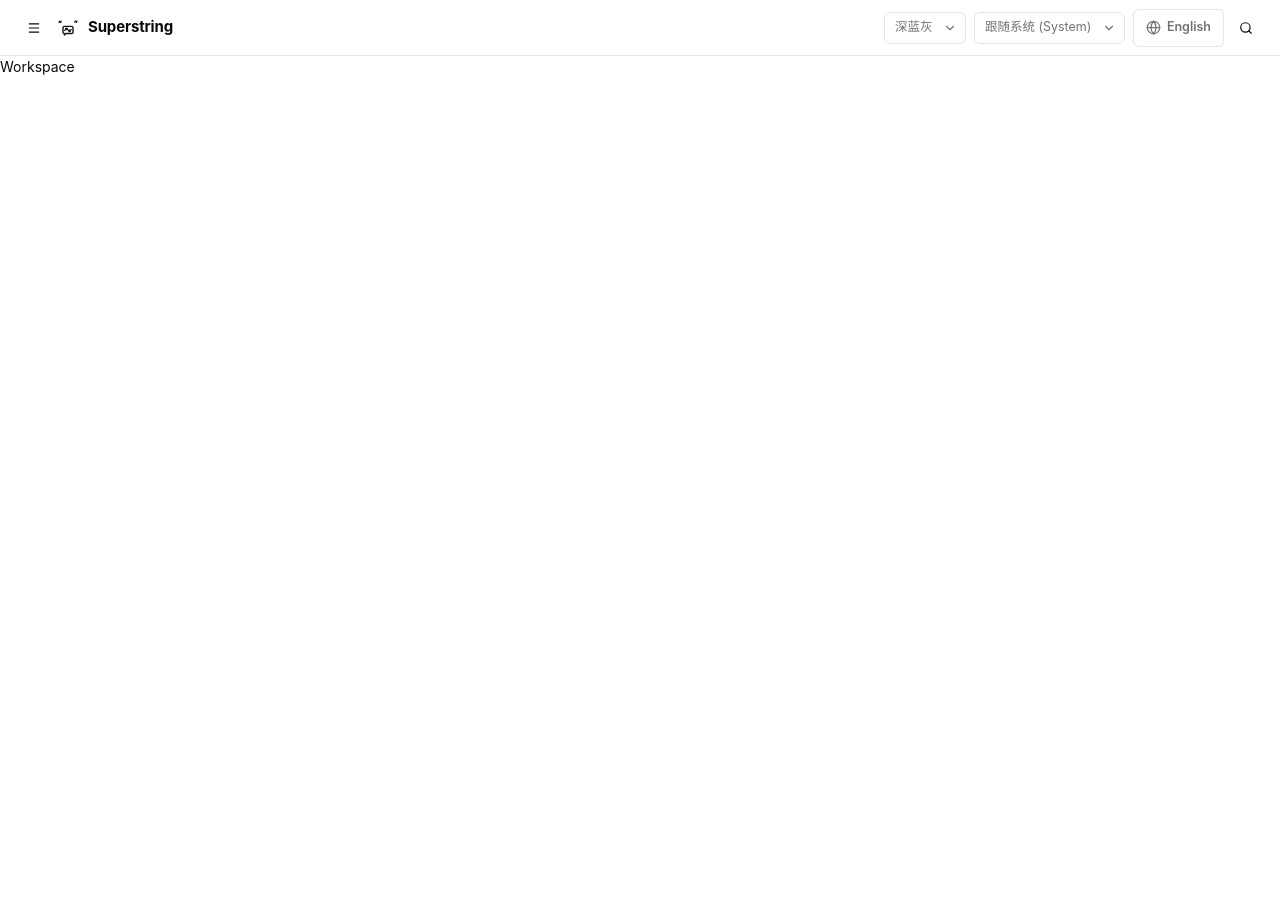
Scenario: command search opens extensions at MCP services in the workspace
Click the button named "搜索与跳转".
click(1246, 28)  # box left=1232, top=14, right=1260, bottom=42
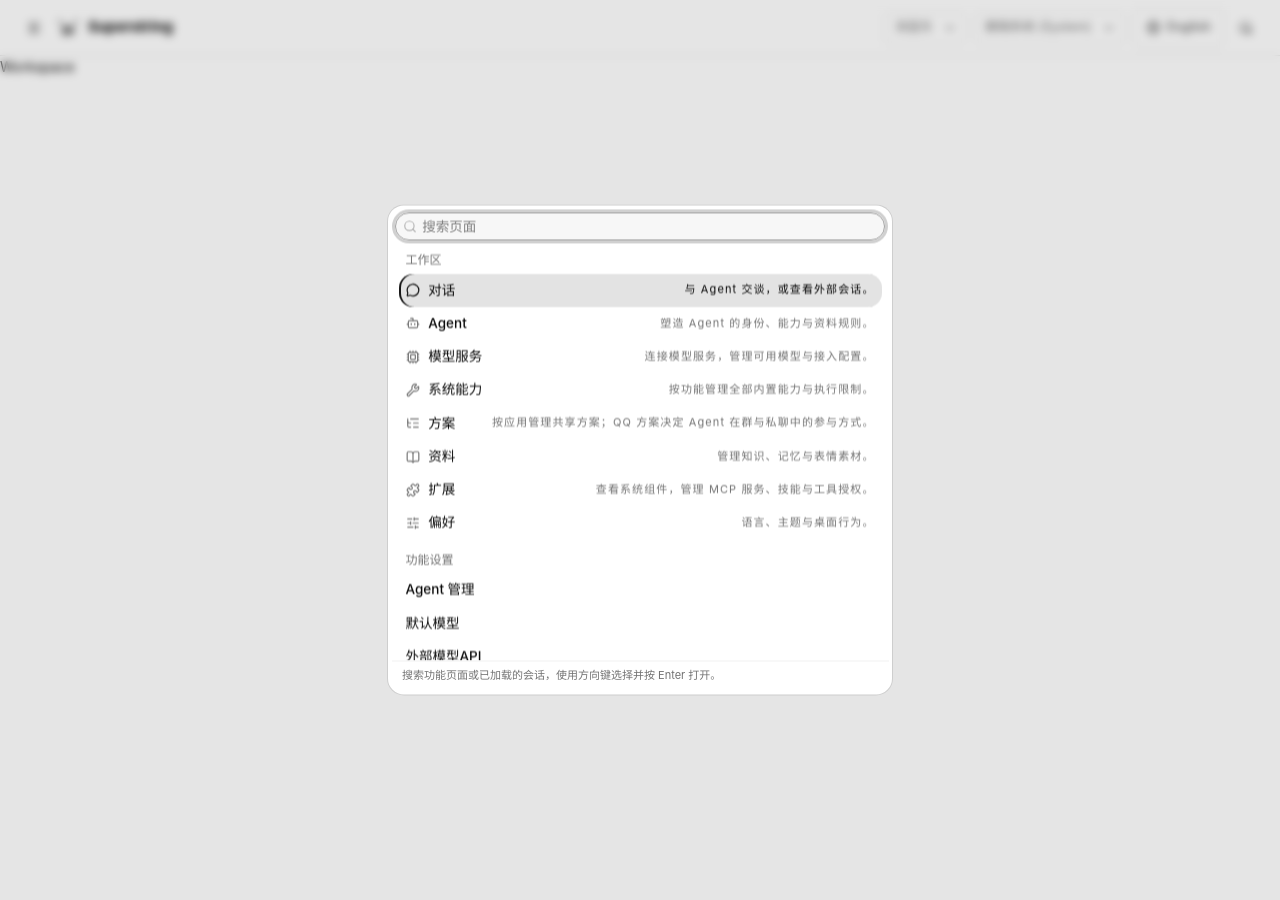
Type "扩展" into the dropdown.
click(650, 226); type("扩展")  # box left=417, top=207, right=884, bottom=246
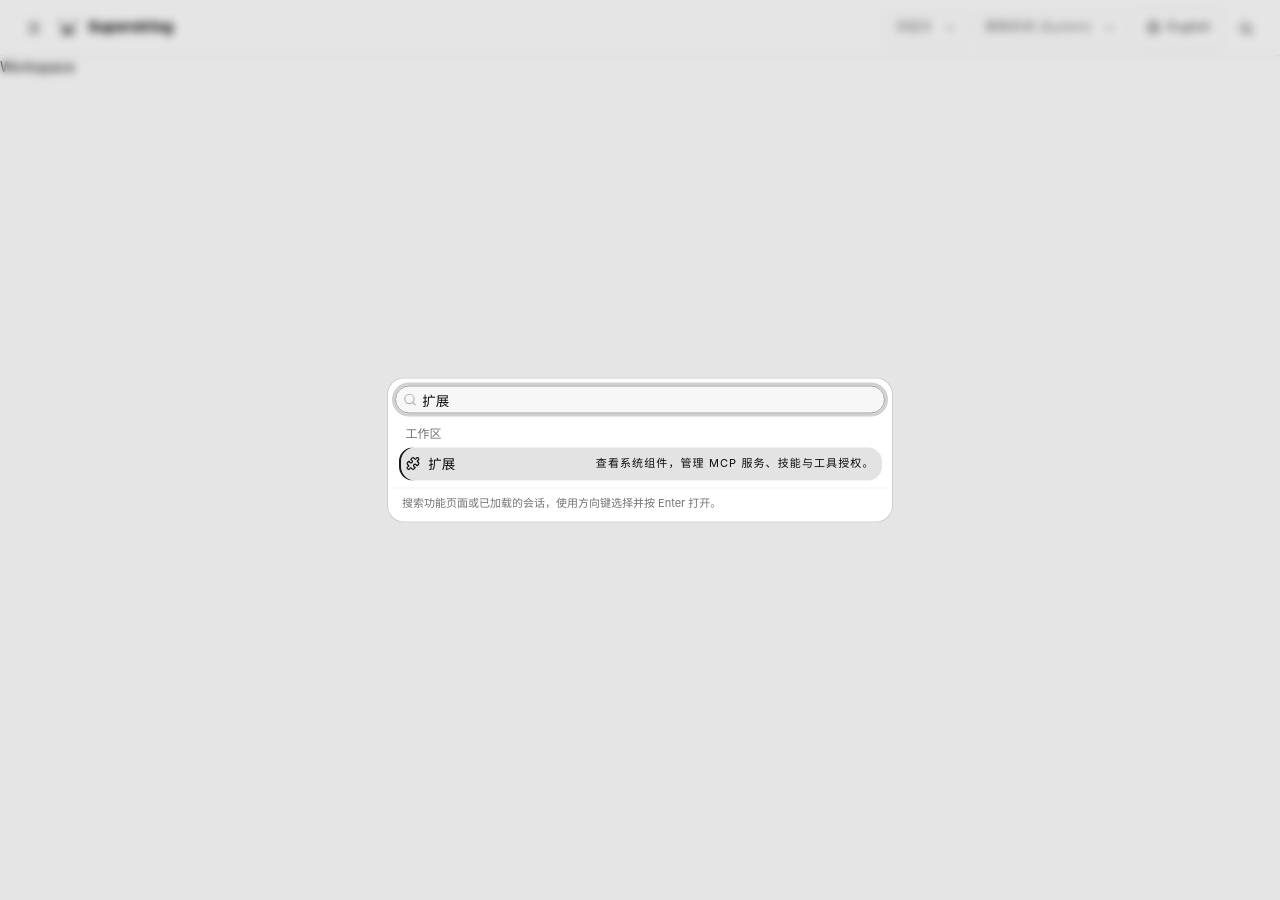
expect the option "扩展 查看系统组件，管理 MCP 服务、技能与工具授权。" is shown: met, box left=398, top=447, right=882, bottom=480
Press Enter
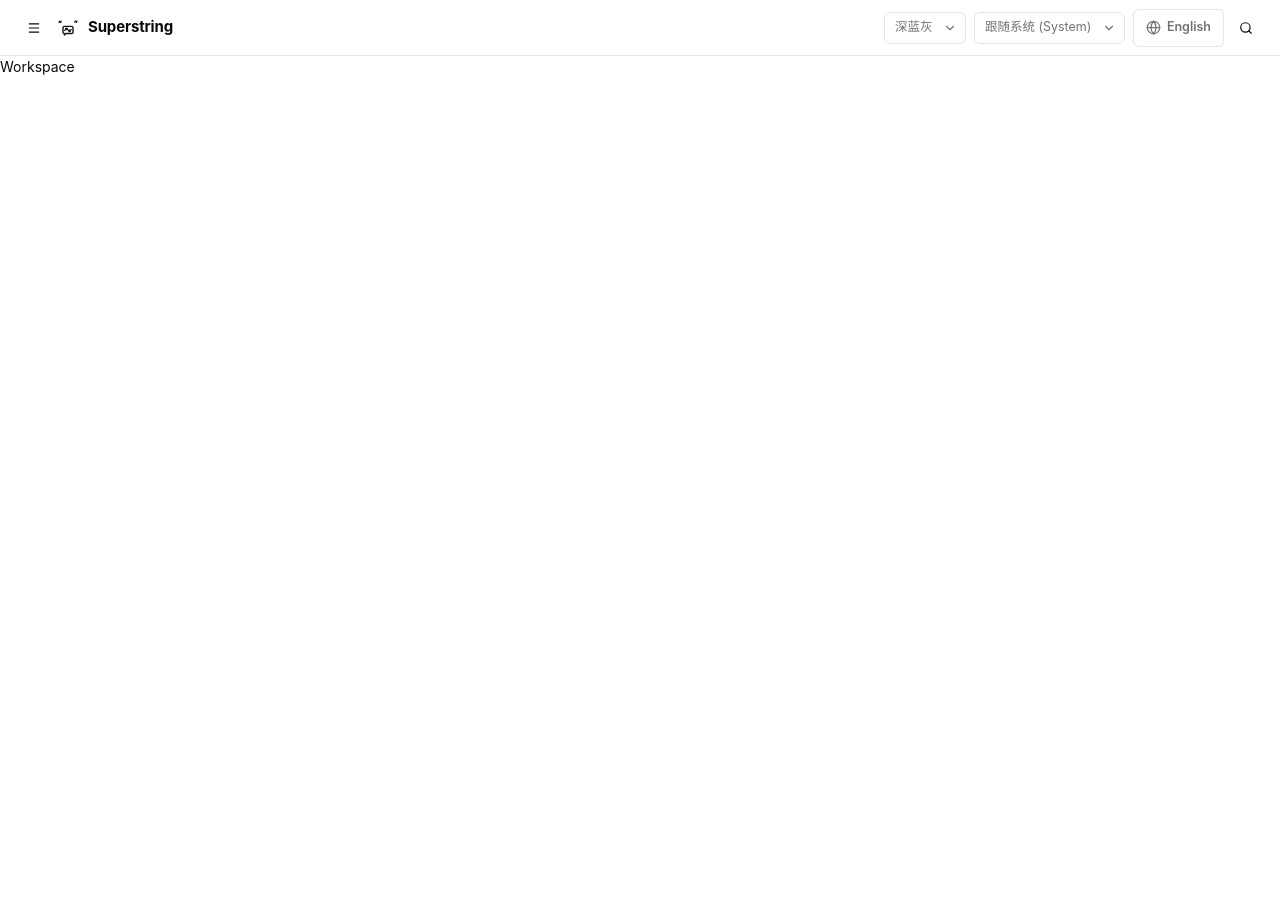
expect the dialog is gone: met
